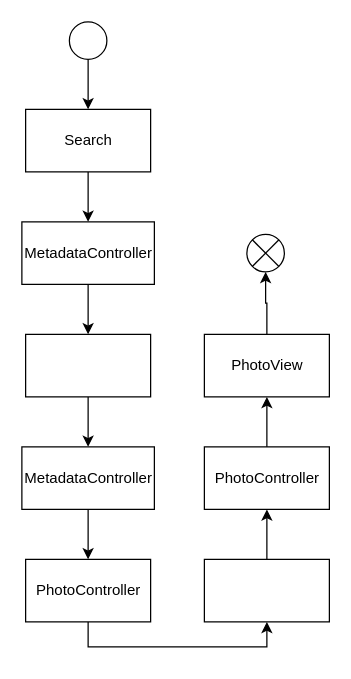
This 351x679 diagram has some shape labels left out. The centre of each missing label's shape, as x and y in pixels:
DB_Metadata table: the point at 87,365
DB_Photo table: the point at 266,590
Start: the point at 87,40
